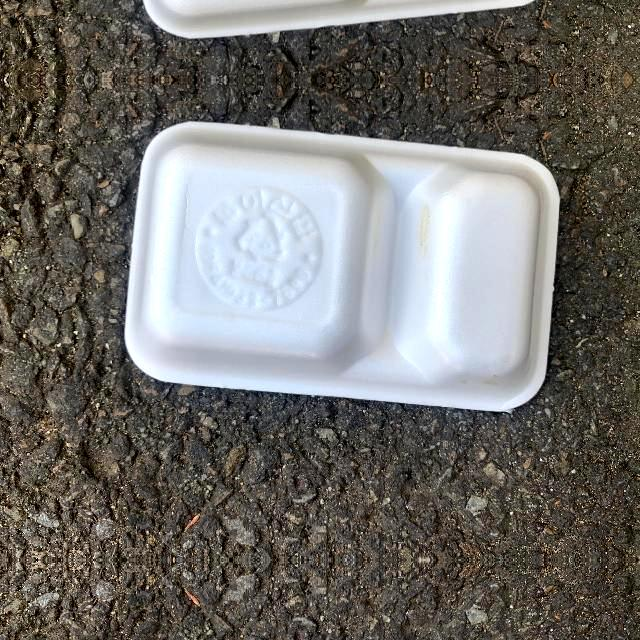Styrofoam: (123, 120, 561, 412), (124, 121, 560, 412)
